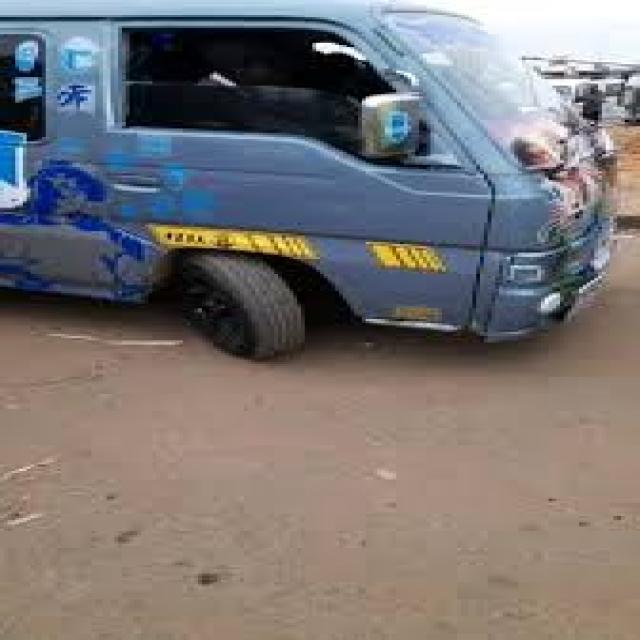matatu: (0, 0, 640, 374)
